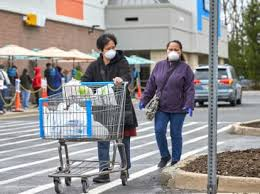Caution: (80, 32, 196, 184)
